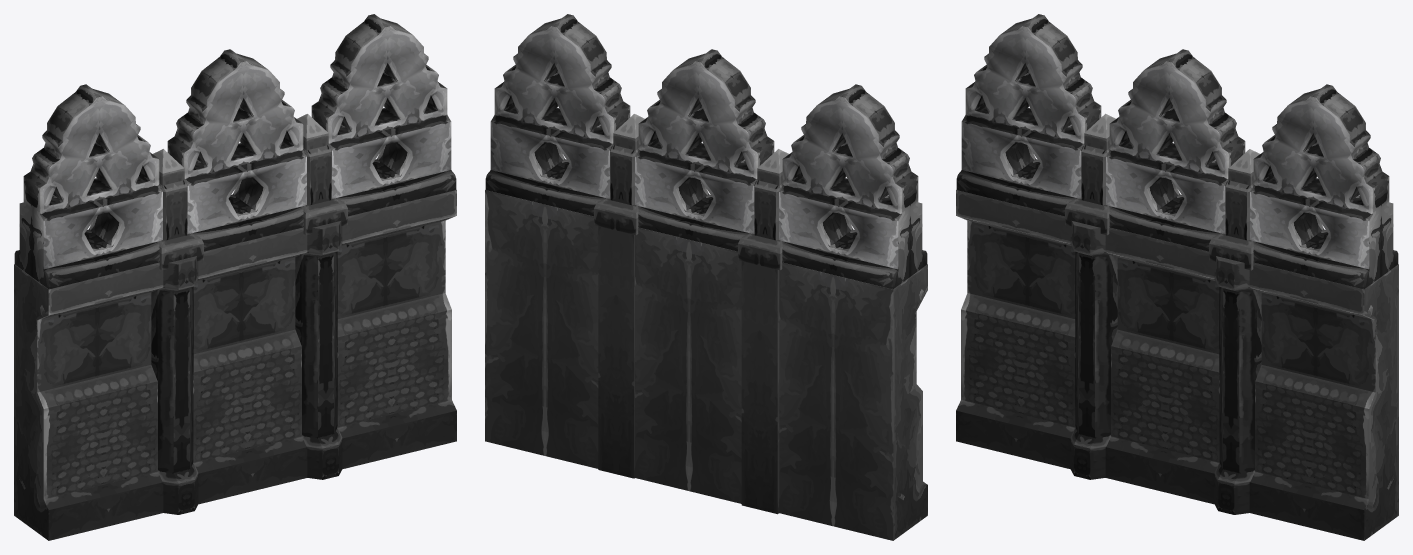
File: VV-WalakuluBemma-3.fbx
The picture shows the model from 3 angles, left to right: view 1: azimuth 30°, elevation 25°; view 2: azimuth 150°, elevation 25°; view 3: azimuth 330°, elevation 25°; orthographic projection.
Parts seen in each view (by area): view 1: WalakuluBemmaBuild-3; view 2: WalakuluBemmaBuild-3; view 3: WalakuluBemmaBuild-3.
Part boxes in pixels (<box>): WalakuluBemmaBuild-3: <box>14,14,456,540</box>; WalakuluBemmaBuild-3: <box>485,14,927,540</box>; WalakuluBemmaBuild-3: <box>956,14,1398,540</box>.
Size of the model in its own units: 3.4 by 3.36 by 0.6141.
